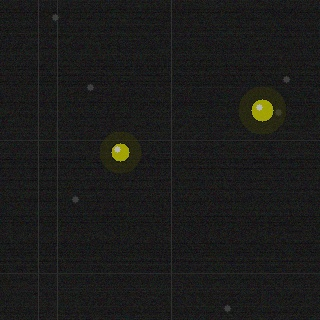yellow_warning: (249, 97, 275, 123), (109, 141, 131, 163)
